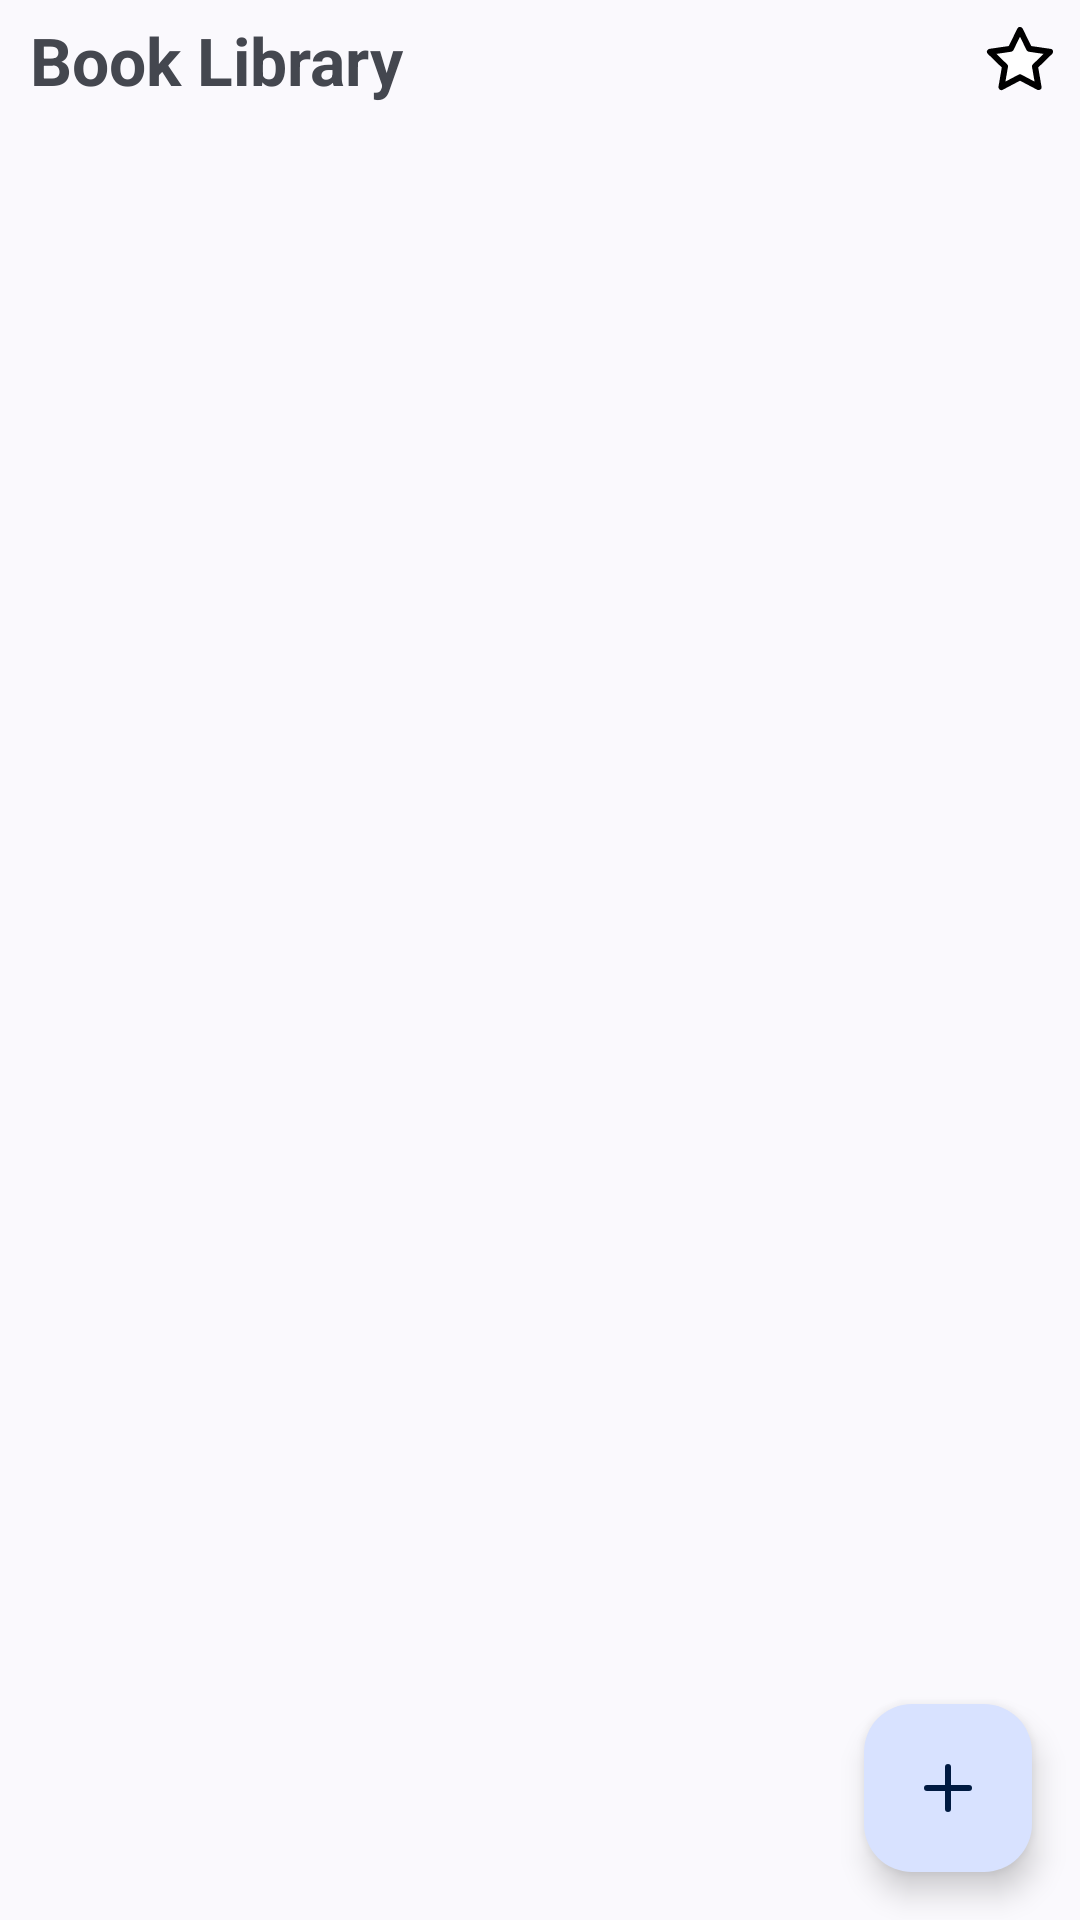

Icon bounding boxes for this 1080*1920 phone screenshot, format (x1, y1, x2, y2):
Favourite Button: (986, 27, 1053, 91)
Floating Action Button: (864, 1704, 1032, 1872)
